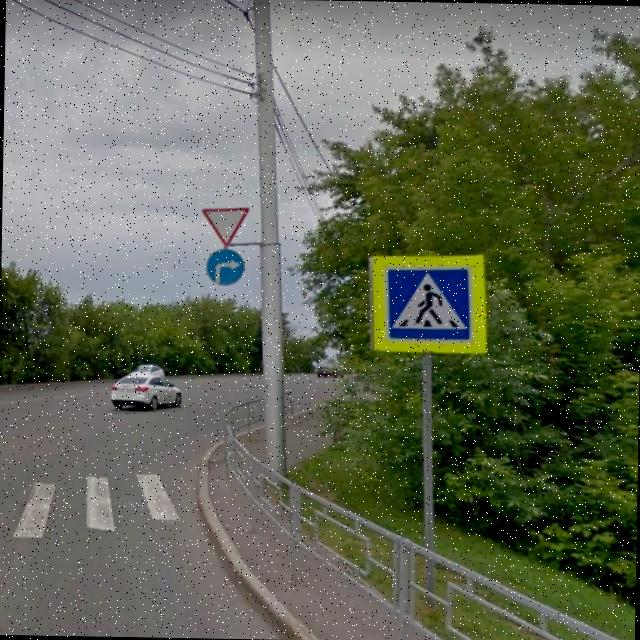Przejscie dla pieszych: (366, 248, 492, 356)
Ustap pierwszenstwa: (198, 202, 253, 252)
